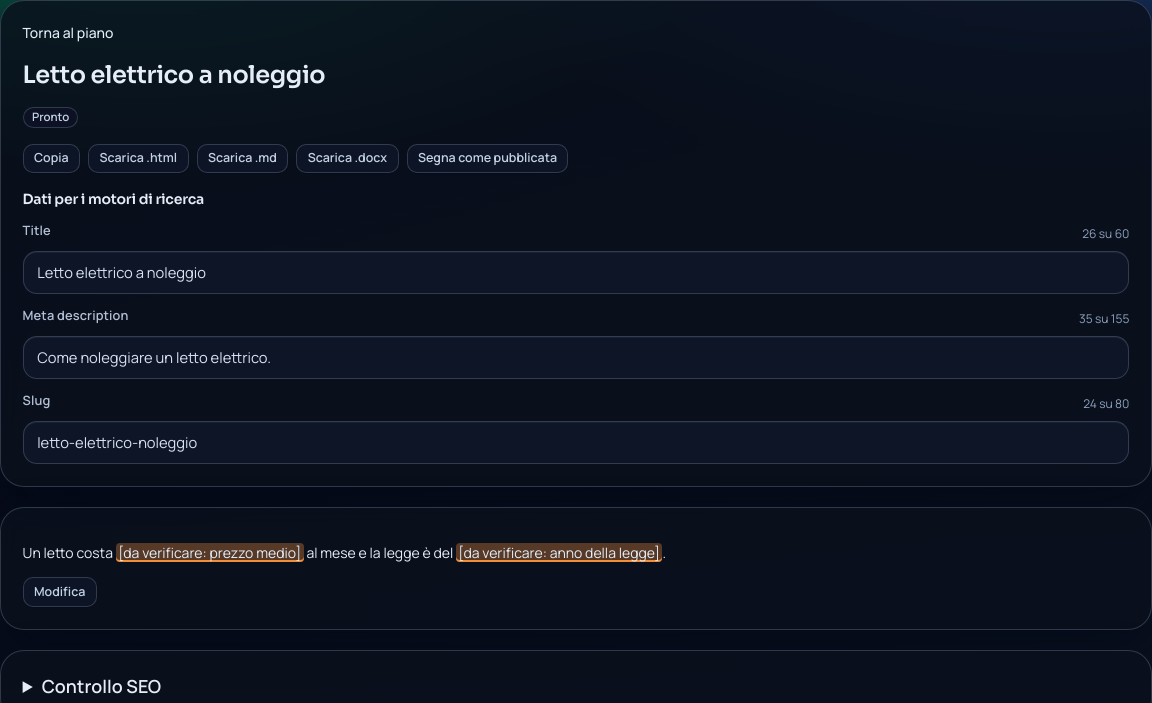
Test: conferma dei segnaposto prima della copia › con 2 segnaposto «Copia» apre la finestra con «2 dati da verificare» e gli appunti cambiano solo con «Continua lo stesso»
Click the button "Copia" at (51, 158), box x1=23 y1=144 x2=80 y2=173
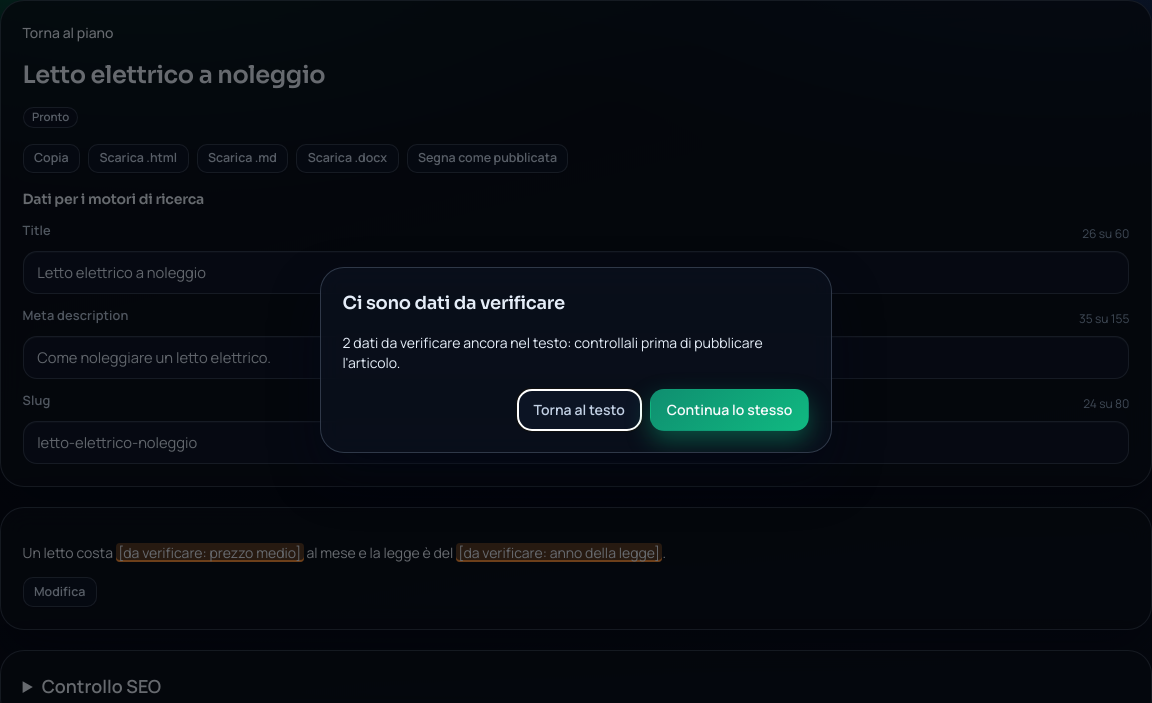
Now the text "2 dati da verificare" is shown, box x1=343 y1=333 x2=763 y2=372
Click the button "Continua lo stesso" at (730, 410), box x1=650 y1=389 x2=809 y2=431
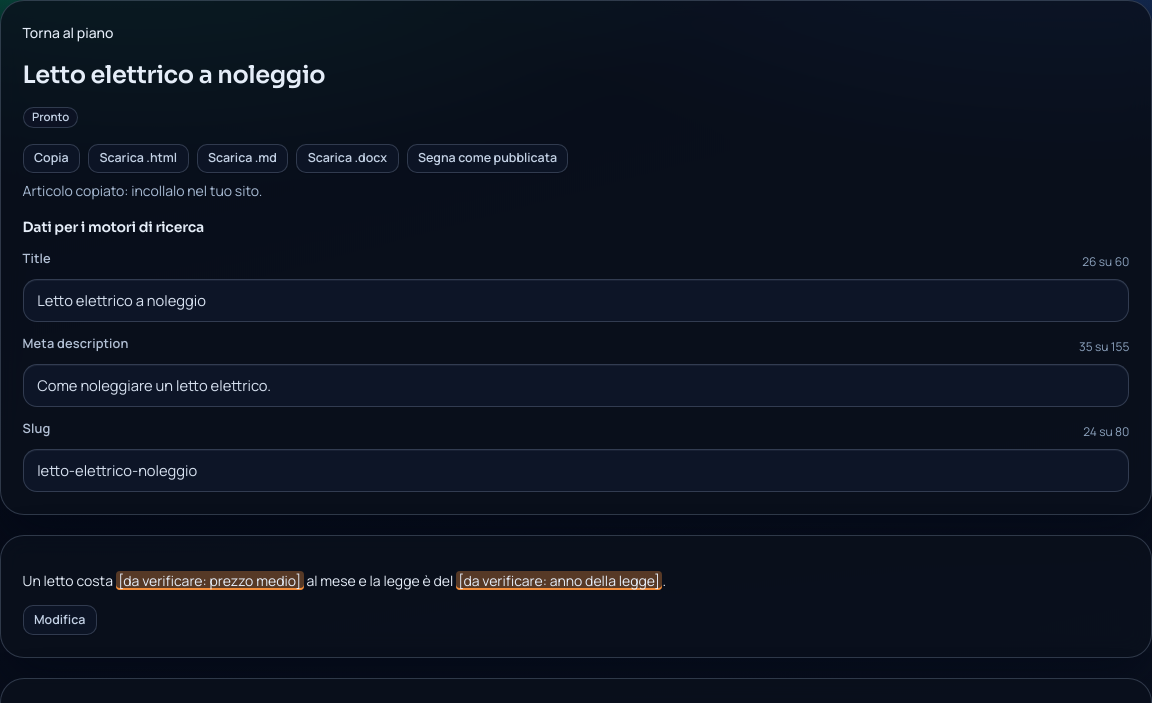
Now the dialog is gone
Now the text "Articolo copiato: incollalo nel tuo sito." is shown, box x1=23 y1=181 x2=262 y2=200
